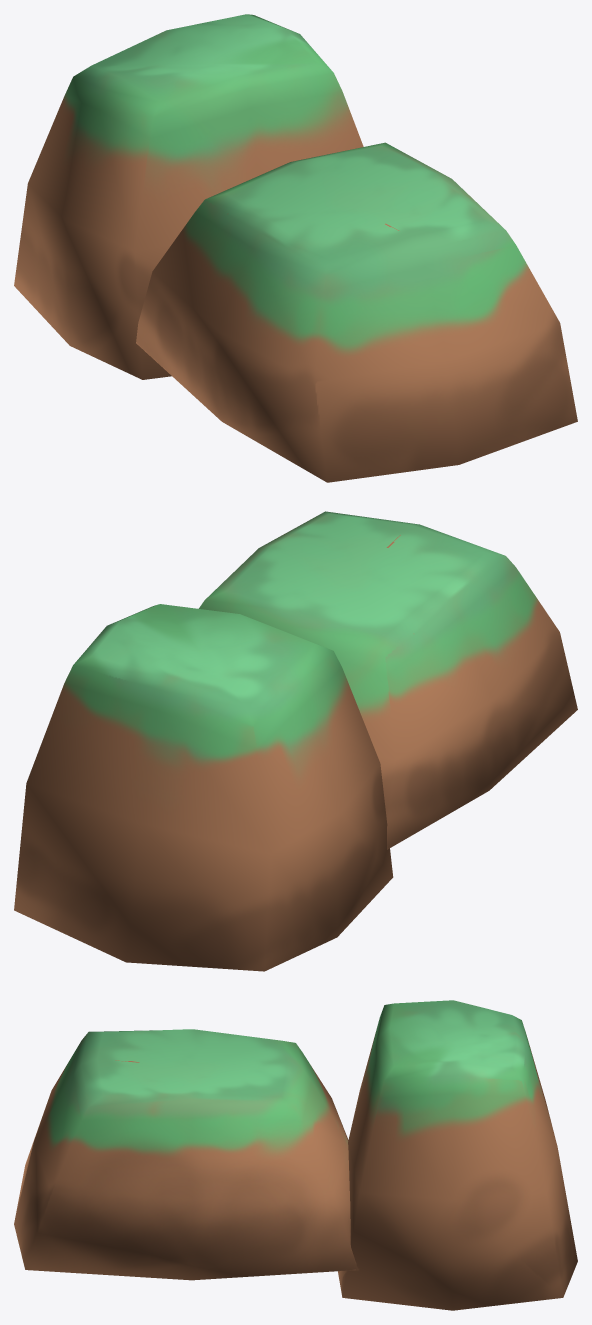
File: bukit2.fbx
The picture shows the model from 3 angles, top to bottom: view 1: azimuth 30°, elevation 25°; view 2: azimuth 150°, elevation 25°; view 3: azimuth 270°, elevation 25°; orthographic projection. The views are drawn at different scales.
Parts seen in each view (by area): view 1: Cube.096; view 2: Cube.096; view 3: Cube.096.
Part boxes in pixels (x1,y1,x2,y2): Cube.096: [14, 14, 577, 482]; Cube.096: [14, 511, 577, 971]; Cube.096: [14, 1000, 577, 1310].
Size of the model in its own units: 3473 by 3440 by 7178.
